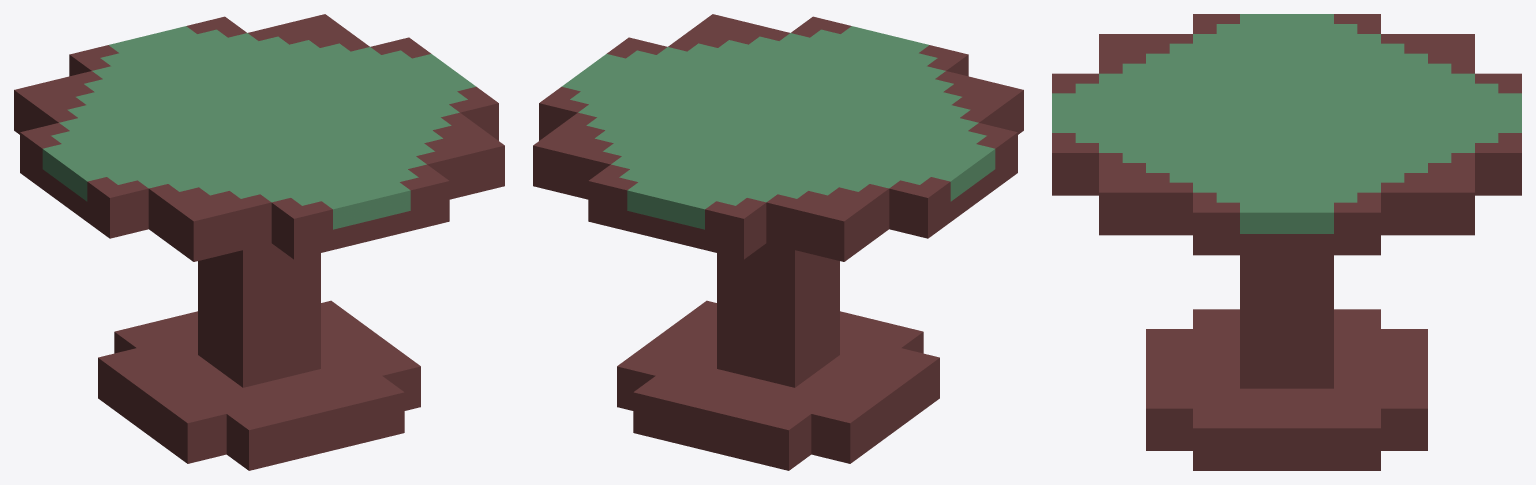
Rendered from restaurant-4.obj.
3 views of the same model, side by side, from view 1: azimuth 30°, elevation 25°; view 2: azimuth 150°, elevation 25°; view 3: azimuth 270°, elevation 25° (orthographic). The views are drawn at different scales.
Size of the model in its own units: 2 by 1.4 by 2.
Materials: 1 (1 with a texture image).
